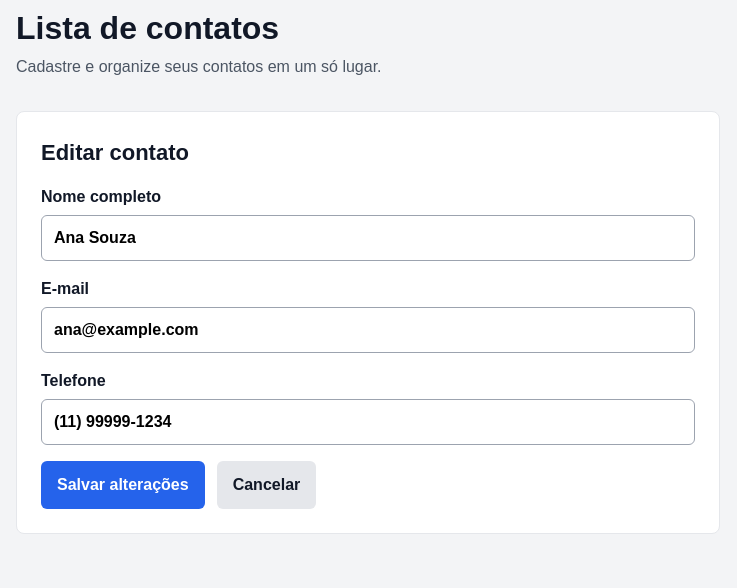
cancela a edição e descarta as alterações do formulário
This screenshot has width=737, height=588.
Replace the text in the field labelled "Nome completo" with "Rascunho": (368, 238) x1=41 y1=215 x2=695 y2=261
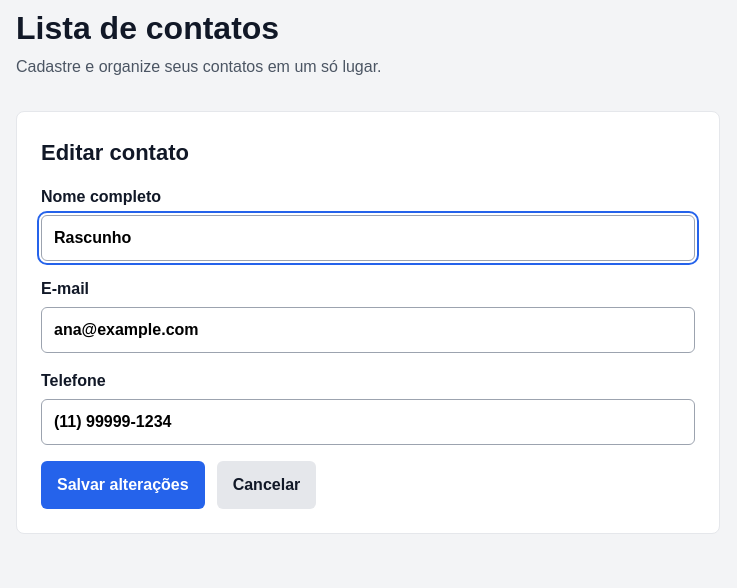
Clear the field labelled "E-mail": (368, 330) x1=41 y1=307 x2=695 y2=353
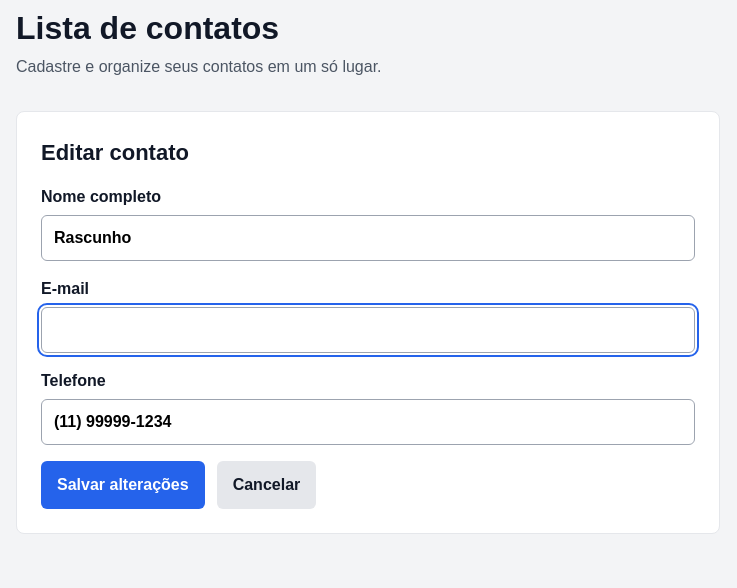
Clear the field labelled "Telefone": (368, 422) x1=41 y1=399 x2=695 y2=445
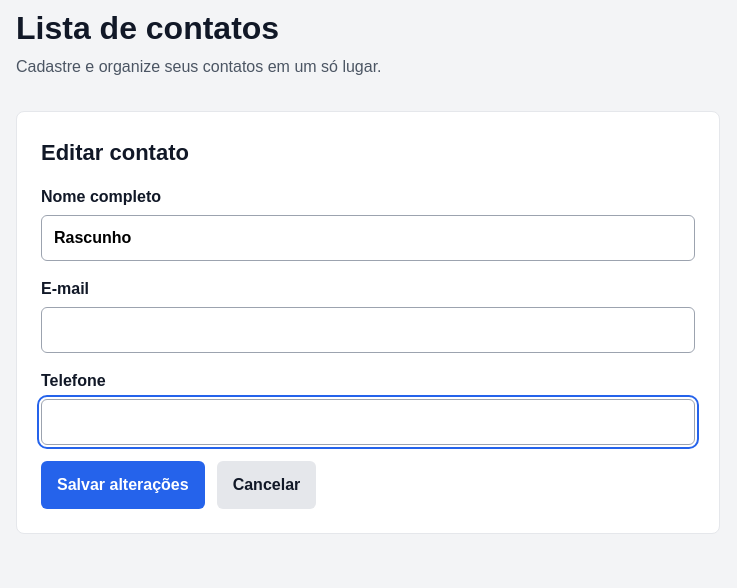
Click the button "Cancelar": (266, 485) x1=217 y1=461 x2=316 y2=509
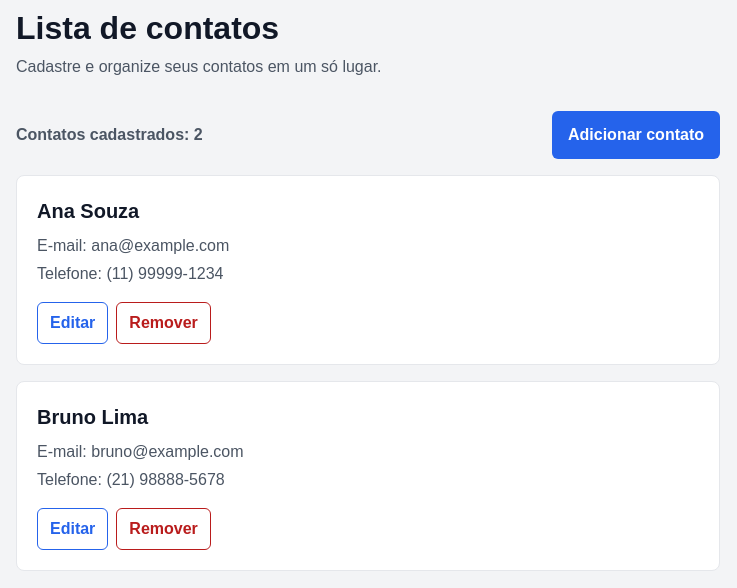
Expected: the form is gone
Expected: the heading "Ana Souza" is shown, x1=37 y1=200 x2=139 y2=222
Click the button with aria-label "Editar Ana Souza": (73, 323) x1=37 y1=302 x2=108 y2=344
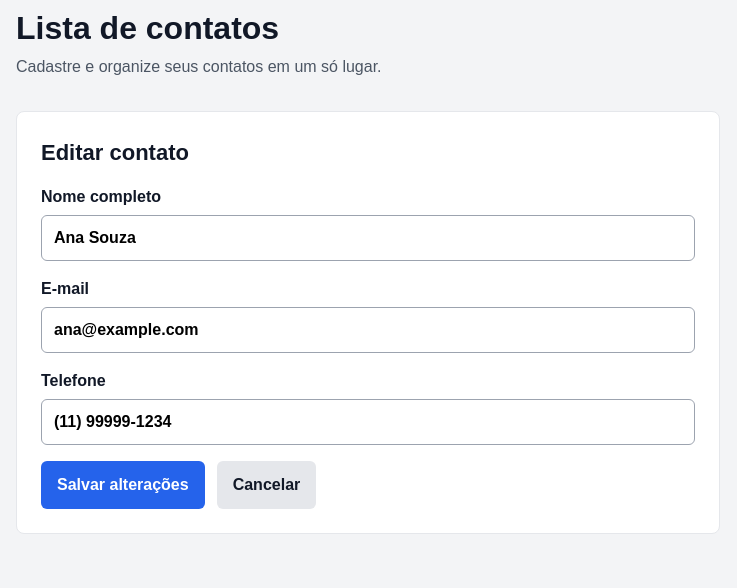
Expected: the field labelled "Nome completo" holds "Ana Souza", x1=41 y1=215 x2=695 y2=261
Expected: the field labelled "E-mail" holds "ana@example.com", x1=41 y1=307 x2=695 y2=353
Expected: the field labelled "Telefone" holds "(11) 99999-1234", x1=41 y1=399 x2=695 y2=445
